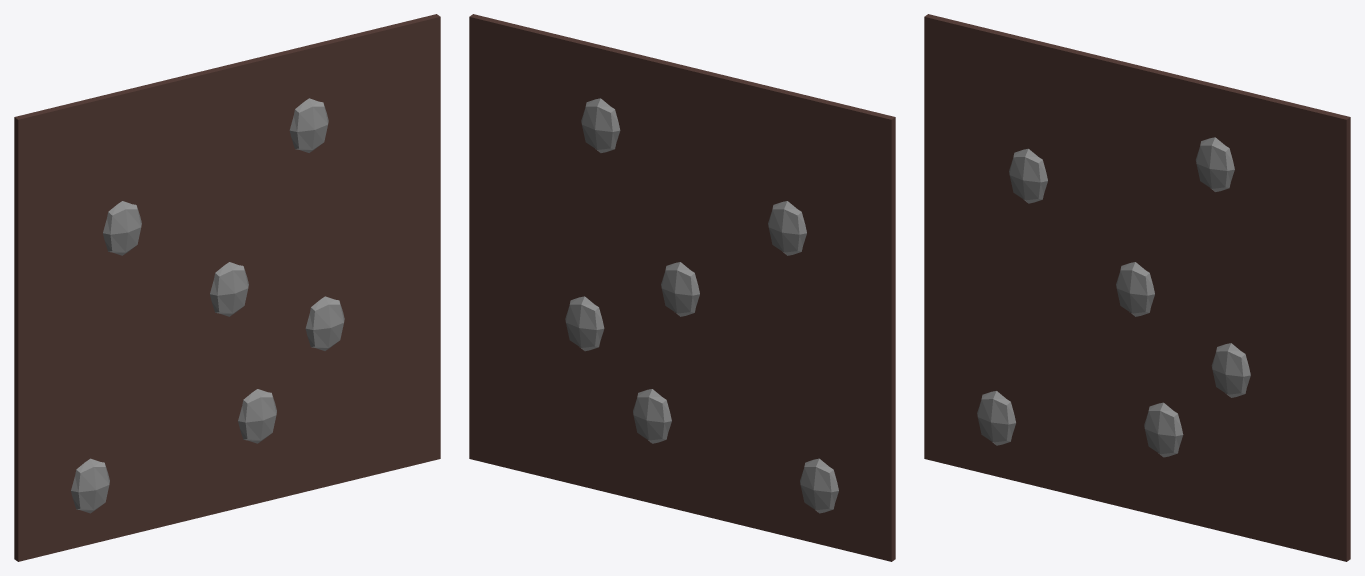
The model's file is DCMwall1.glb.
3 views of the same model, side by side, from view 1: azimuth 30°, elevation 25°; view 2: azimuth 150°, elevation 25°; view 3: azimuth 330°, elevation 25° (orthographic).
Parts seen in each view (by area): view 1: Box, Rock 3, Rock 5, Rock 1, Rock 4, Rock, Rock 2; view 2: Box, Rock 3, Rock 4, Rock 5, Rock, Rock 2, Rock 1; view 3: Box, Rock 5, Rock 3, Rock 1, Rock, Rock 2, Rock 4.
Part boxes in pixels (x1,y1,x2,y2): Box: (14,14,440,561); Rock 3: (238,389,276,443); Rock 5: (305,296,344,350); Rock 1: (289,98,328,152); Rock 4: (71,458,109,513); Rock: (210,262,248,316); Rock 2: (103,201,141,255); Box: (469,14,895,561); Rock 3: (633,389,671,443); Rock 4: (800,458,838,513); Rock 5: (565,296,604,351); Rock: (661,262,699,316); Rock 2: (768,201,806,255); Rock 1: (581,98,620,152); Box: (924,14,1350,561); Rock 5: (1211,343,1250,397); Rock 3: (1144,402,1183,457); Rock 1: (1196,137,1234,191); Rock: (1116,262,1154,316); Rock 2: (1009,148,1047,203); Rock 4: (977,391,1015,445).
Bounding box in the file's own units: 1 × 1 × 0.0628.
